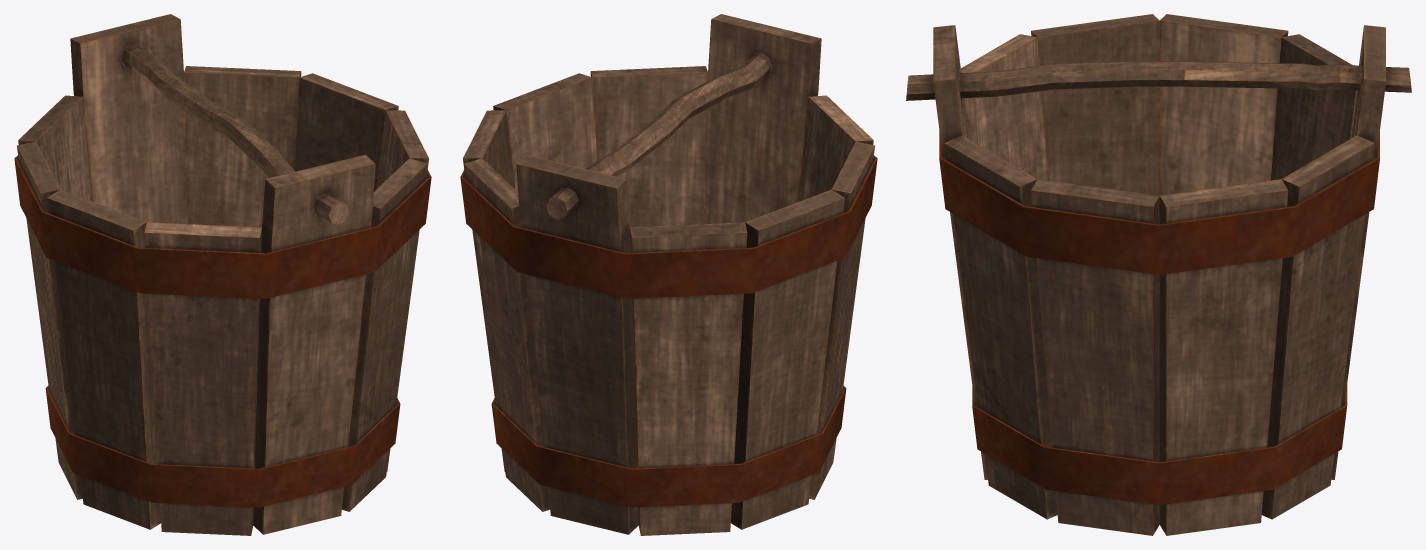
Rendered from bucket.glb.
The picture shows the model from 3 angles, left to right: view 1: azimuth 30°, elevation 25°; view 2: azimuth 150°, elevation 25°; view 3: azimuth 270°, elevation 25°; orthographic projection. The views are drawn at different scales.
Parts seen in each view (by area): view 1: g (×13); view 2: g (×13); view 3: g (×13).
Part boxes in pixels (left/top/right/bottom): g (×13): left=14, top=14, right=431, bottom=535; g (×13): left=460, top=14, right=877, bottom=535; g (×13): left=906, top=14, right=1411, bottom=535.
Size of the model in its own units: 1.83 by 1.78 by 2.
Materials: 1 (1 with a texture image).
